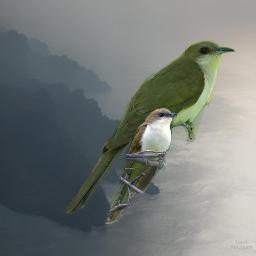Cuckoo: (66, 40, 236, 217), (104, 106, 177, 224)
